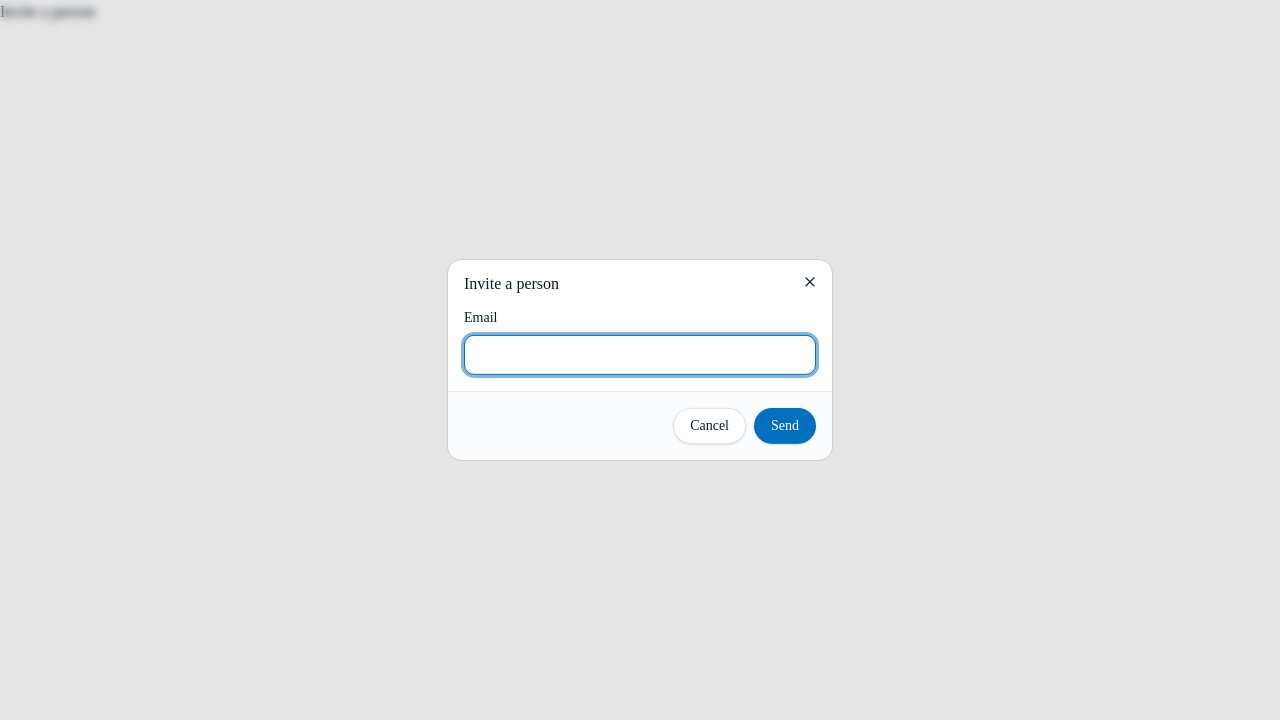
FormDialog › shows the refusal of the whole form above the buttons, and stays open
Click the button "Send" at (785, 426), box [754,408,816,444]
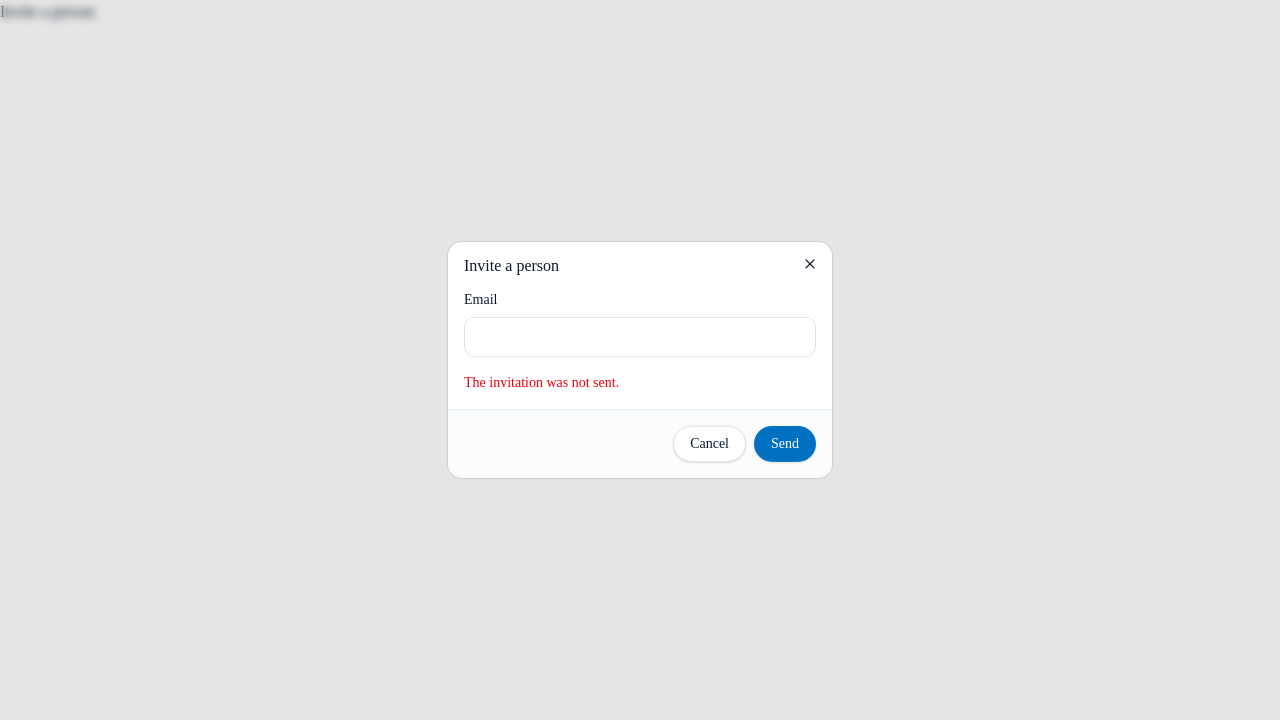
Check: the button "Cancel" is enabled, box [673,426,746,462]
Check: the message reads "The invitation was not sent.", box [464,375,619,390]
